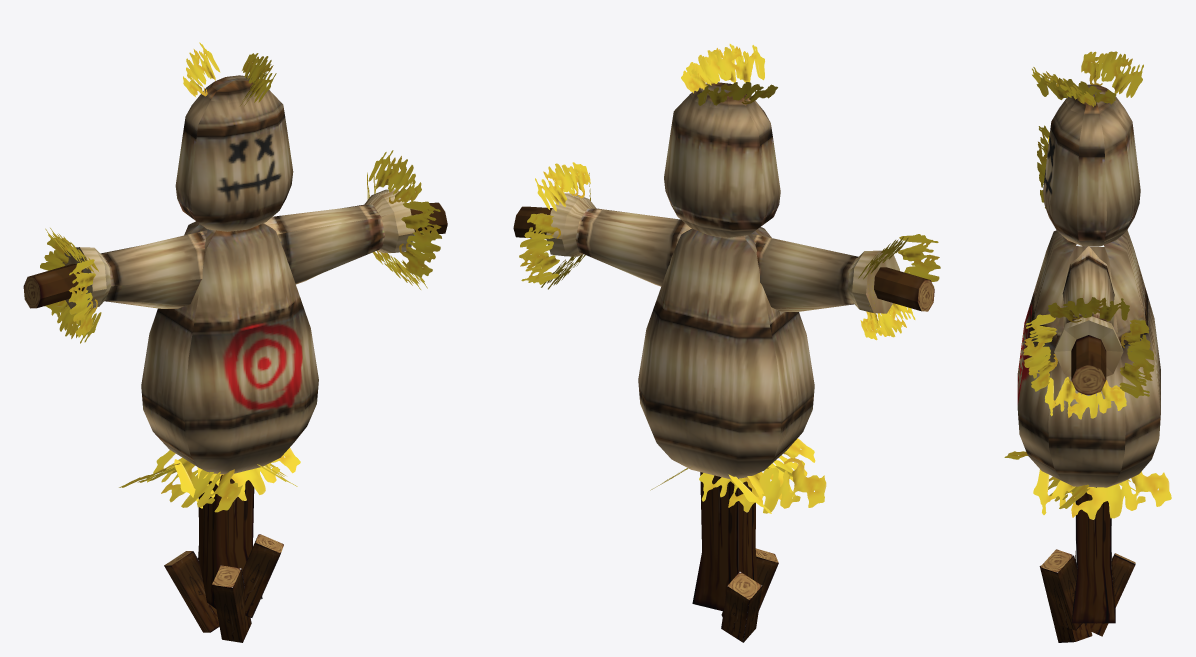
The model's file is dummyNEW (1).FBX.
3 views of the same model, side by side, from view 1: azimuth 30°, elevation 25°; view 2: azimuth 150°, elevation 25°; view 3: azimuth 270°, elevation 25° (orthographic). The views are drawn at different scales.
Parts seen in each view (by area): view 1: polySurface1; view 2: polySurface1; view 3: polySurface1.
Part boxes in pixels (box(x1,y1,x2,y2)): polySurface1: box(23, 42, 447, 642); polySurface1: box(513, 44, 940, 642); polySurface1: box(1004, 51, 1171, 642).
Bounding box in the file's own units: 38.15 × 51.76 × 14.46.
